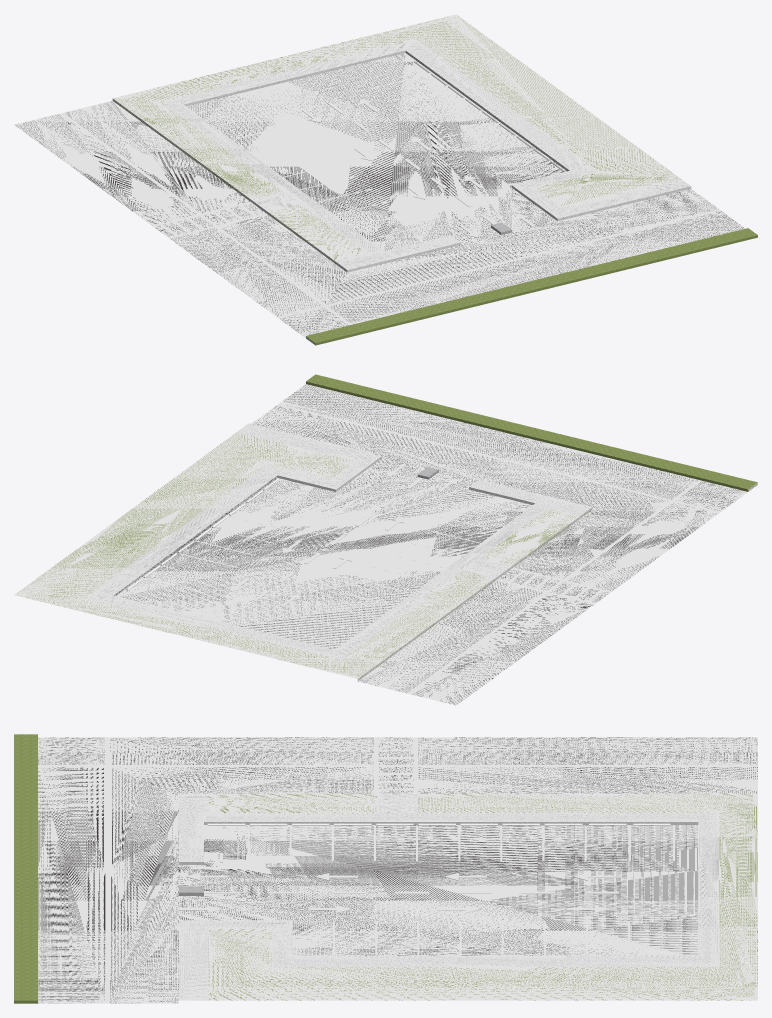
File: parkinglotwithmaterials.fbx
3 renders of one model, top to bottom at view 1: azimuth 30°, elevation 25°; view 2: azimuth 150°, elevation 25°; view 3: azimuth 270°, elevation 25°, orthographic. The views are drawn at different scales.
Parts seen in each view (by area): view 1: Material2, Material3.001, Material3.002, Material3.003, Material3; view 2: Material2, Material3.001, Material3.002, Material3.003, Material3; view 3: Material2, Material3.001, Material3.002, Material3.003, Material3.
Boxes of the visible parts, x1,y1,x2,y2 form: Material2: (14,14,745,345); Material3.001: (15,52,743,334); Material3.002: (114,17,757,345); Material3.003: (163,43,690,271); Material3: (60,113,720,325); Material2: (14,384,757,705); Material3.001: (116,384,741,705); Material3.002: (17,374,757,677); Material3.003: (91,424,588,658); Material3: (277,404,720,694); Material2: (38,737,757,1003); Material3.001: (38,737,757,1003); Material3.002: (14,734,757,1003); Material3.003: (178,793,718,1000); Material3: (38,737,757,1003).
Bounding box in the file's own units: 161535 × 870 × 190718.
5 materials, 3 textured.
